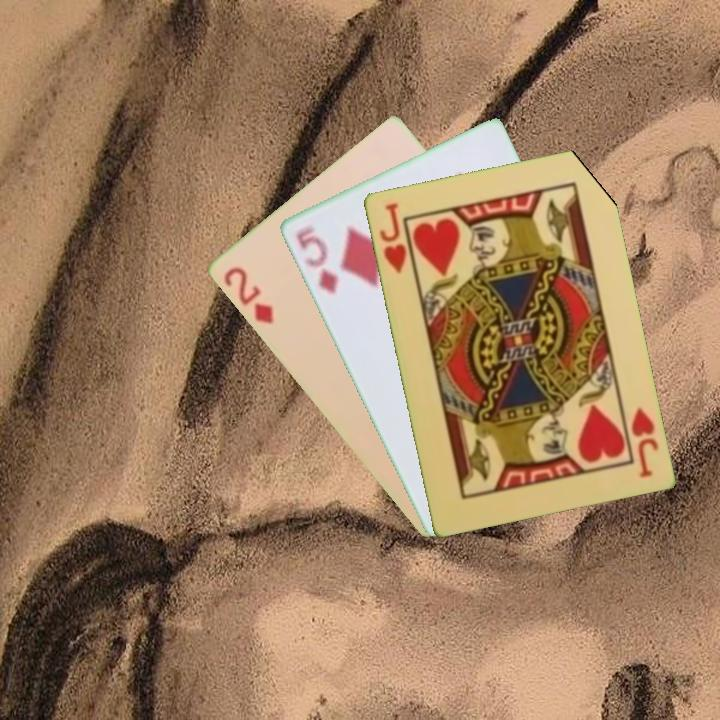2d: (219, 263, 276, 327)
5d: (292, 222, 341, 297)
Jh: (375, 199, 417, 280), (627, 403, 661, 480)
